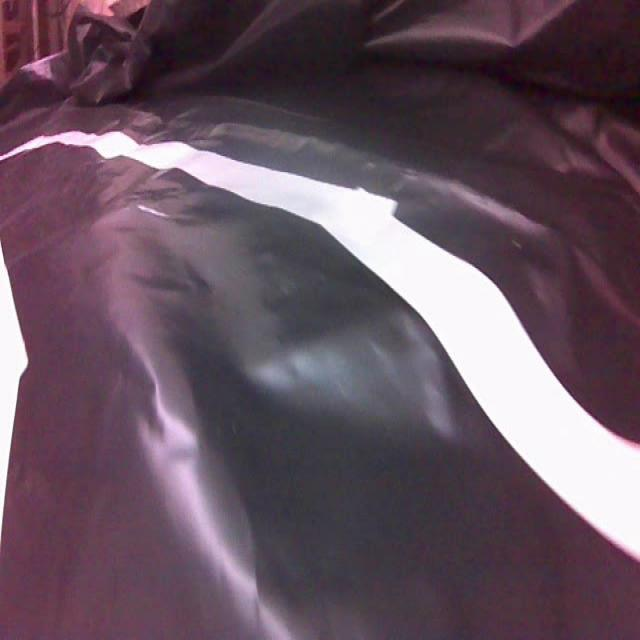LineaCarril: (1, 243, 28, 538), (1, 248, 28, 528)
